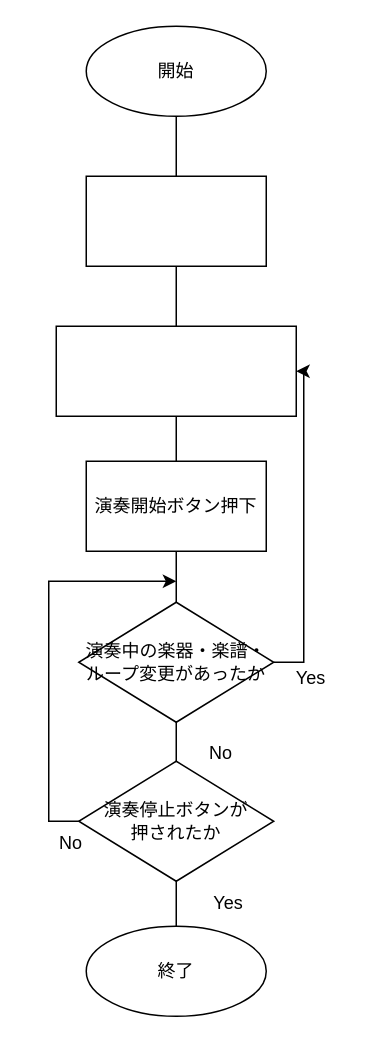
Some shapes in this 381 by 1043 pixel diagram are drawn without their labels. The shapes that lost their labels are listed below. From the top down, each one's box as (x1, y1, x2, y2) in pixels, then its label:
(85, 175, 266, 266): Webサイト起動
(55, 325, 296, 416): 楽器，楽譜，個別音量，テンポ， ループ決定・演奏開始ボタン確認
